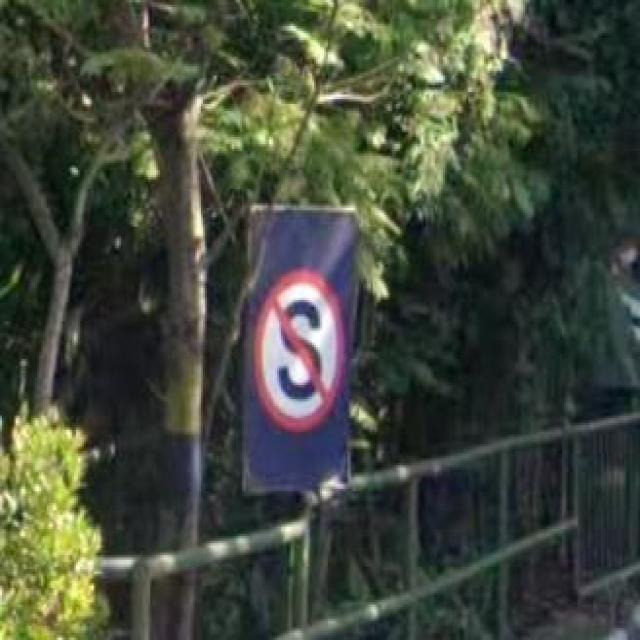traffic sign: (256, 272, 344, 432)
